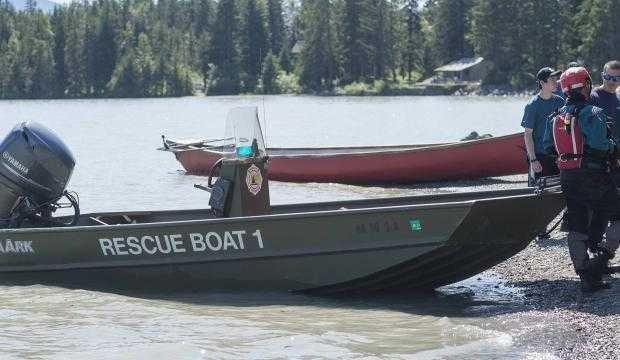kayak: (0, 166, 570, 298), (159, 118, 528, 187)
